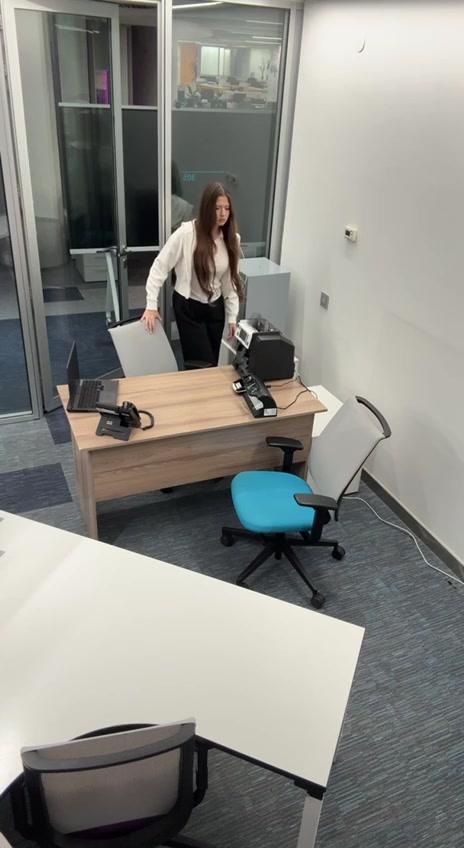counter: (235, 318, 295, 383)
door_open: (119, 4, 164, 373)
uv_lamp: (236, 375, 278, 417)
